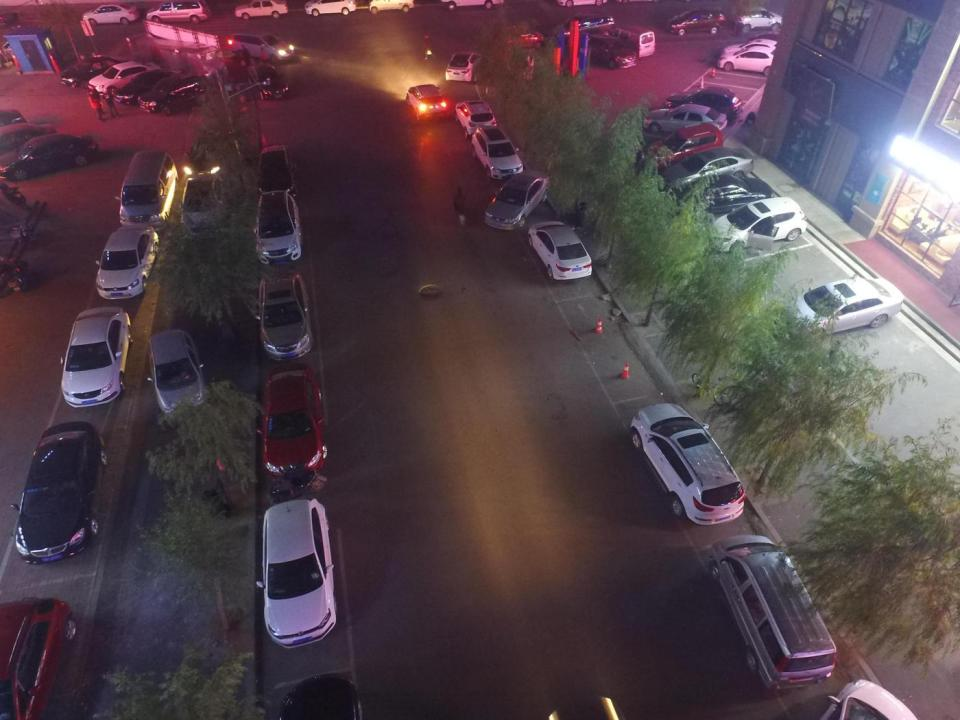car: (10, 422, 107, 563), (256, 500, 337, 650), (0, 598, 74, 720), (257, 361, 327, 476), (779, 277, 904, 337), (60, 306, 134, 406), (710, 197, 808, 252), (147, 329, 208, 416), (255, 272, 314, 360), (95, 224, 160, 299), (666, 174, 774, 219), (0, 133, 97, 179), (660, 147, 754, 194), (527, 220, 592, 282), (483, 169, 548, 230), (253, 191, 303, 264), (646, 123, 724, 169), (180, 173, 228, 238), (471, 126, 524, 180), (666, 86, 742, 122), (643, 103, 727, 134), (88, 62, 161, 96), (112, 71, 181, 105), (60, 56, 129, 88), (258, 144, 297, 199), (1, 123, 56, 158), (717, 46, 781, 75), (582, 34, 636, 68), (722, 38, 785, 66), (454, 100, 497, 138), (248, 62, 288, 100), (406, 84, 446, 120), (732, 5, 783, 33), (83, 1, 138, 26), (0, 39, 59, 62), (445, 52, 481, 82), (235, 0, 288, 20), (748, 31, 793, 53), (0, 108, 27, 141), (304, 0, 357, 16), (0, 12, 17, 28)
van: (712, 533, 838, 691), (630, 401, 746, 525), (115, 151, 180, 228), (138, 73, 206, 115), (228, 31, 294, 63), (554, 10, 614, 41), (667, 5, 725, 34), (146, 0, 211, 25), (608, 25, 656, 57), (368, 0, 414, 14), (440, 0, 503, 10)
